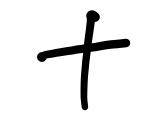plus: (35, 11, 130, 112)
